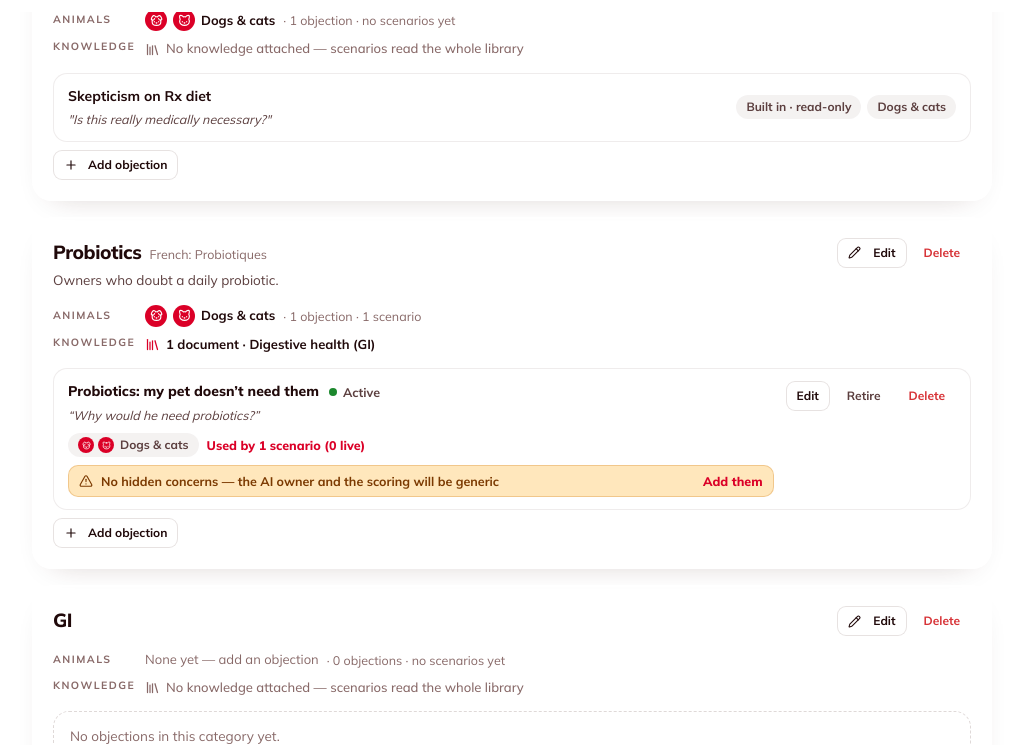
Test: CategoriesScreen › won’t delete an objection scenarios still use — it names them and offers Retire
(page scrolled)
Click the button with aria-label "Delete “Probiotics: my pet doesn’t need them”". click: (927, 396)
box: [898,381,956,411]
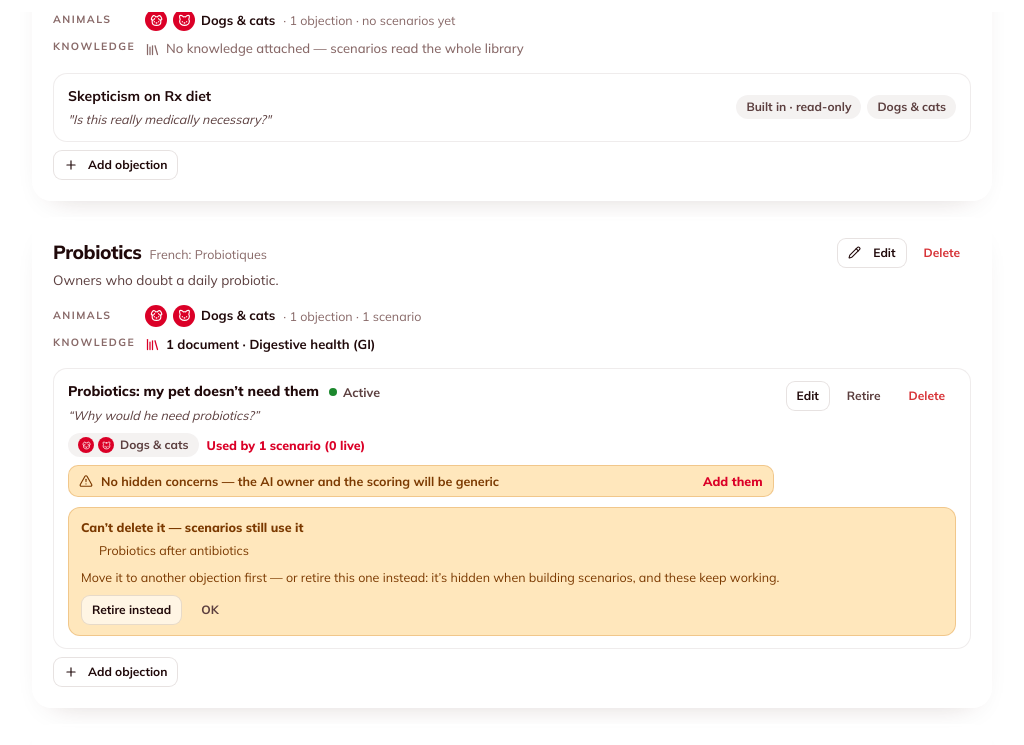
expect the text "Can’t delete it — scenarios still use it" is shown: met, box [81,519,303,535]
expect the list item "Probiotics after antibiotics" is shown: met, box [99,542,249,558]
expect the button "Retire instead" is shown: met, box [81,594,182,624]
